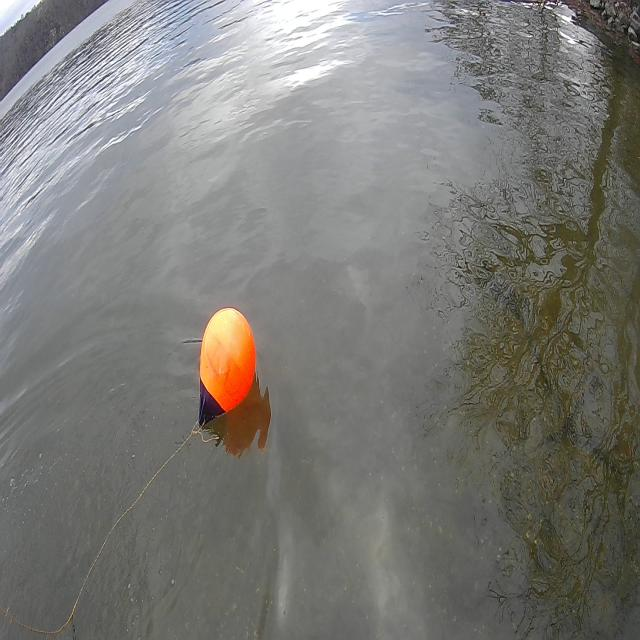Buoy: (191, 298, 260, 433)
